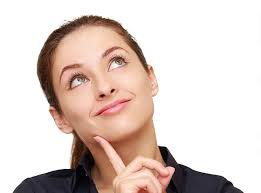noMask: (35, 18, 167, 150)
